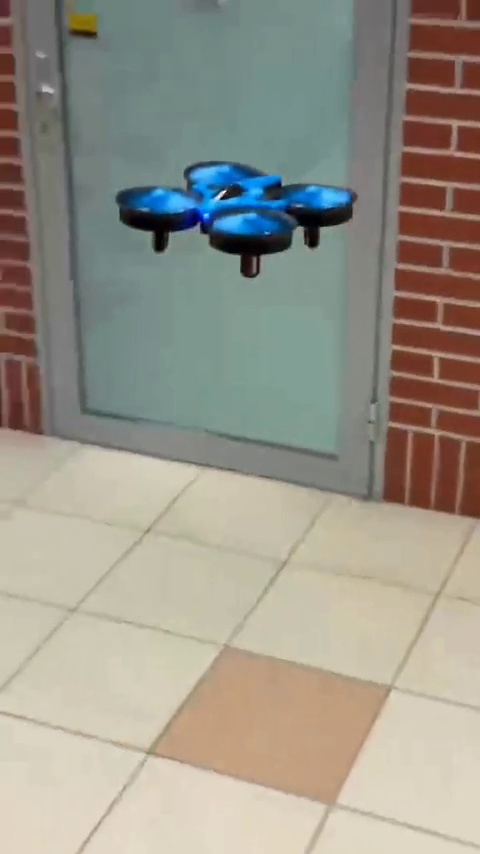drone: (122, 160, 348, 274)
